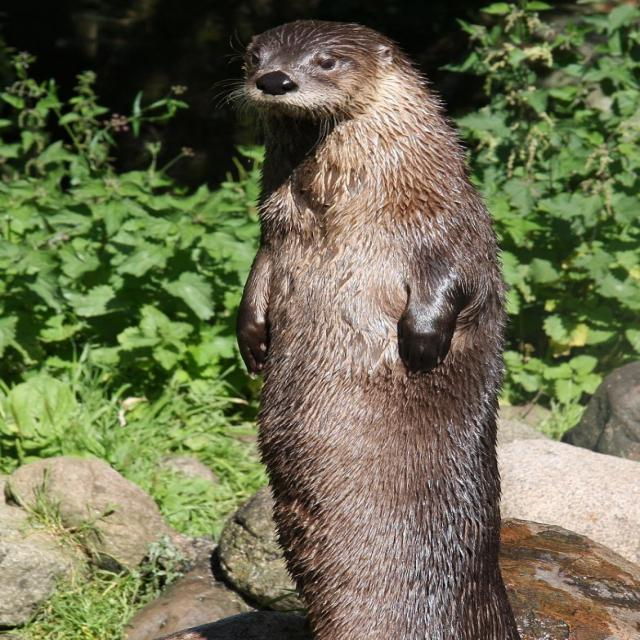otter: (231, 24, 519, 640)
